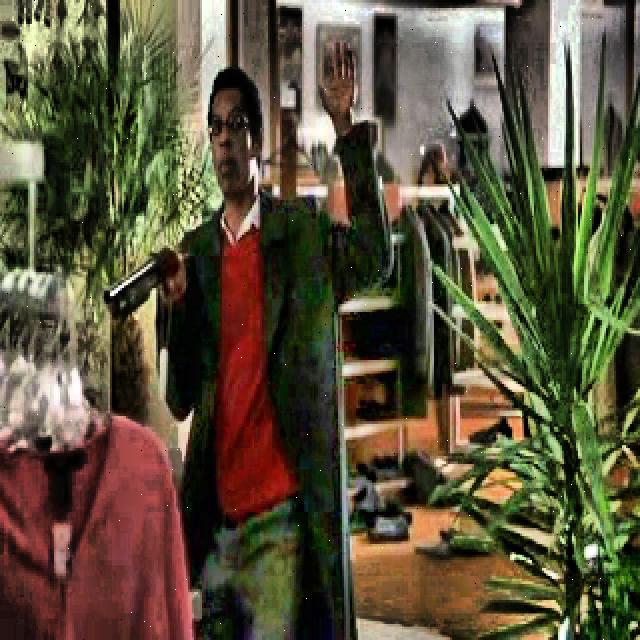L: (106, 35, 394, 639)
